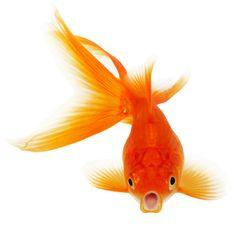goldfish: (111, 94, 194, 218)
